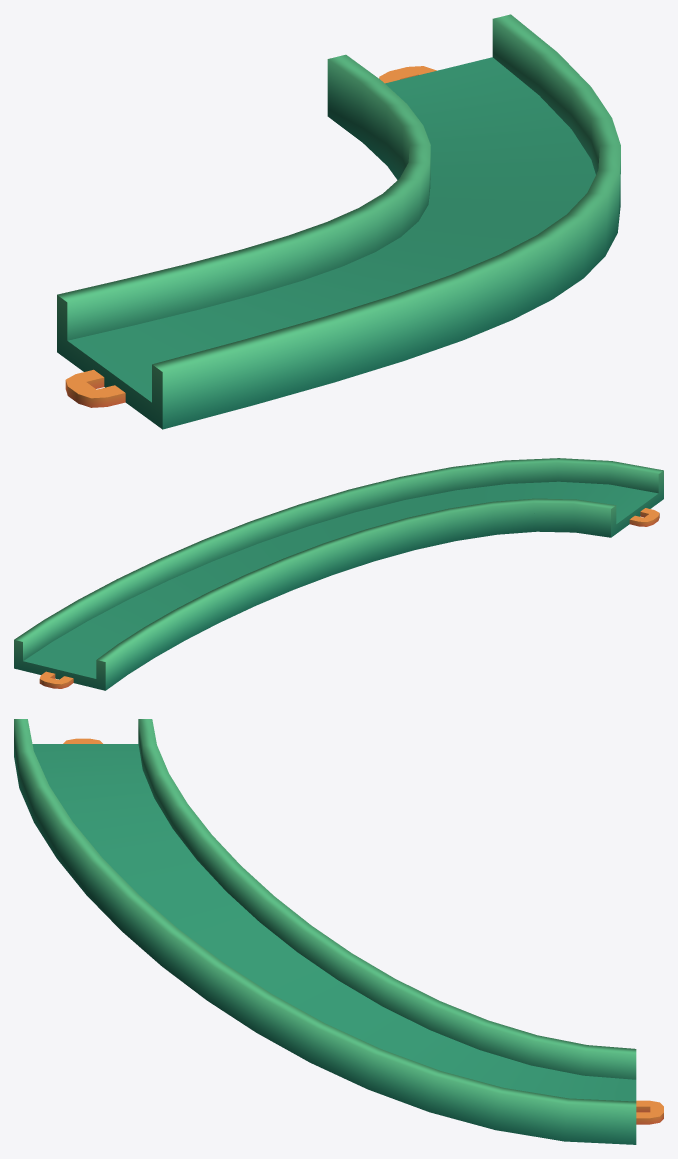
File: track-narrow-corner-large-ramp.fbx
3 views of the same model, one above another, from view 1: azimuth 30°, elevation 25°; view 2: azimuth 150°, elevation 25°; view 3: azimuth 270°, elevation 25° (orthographic). The views are drawn at different scales.
Visible parts, largest first — view 1: track-narrow-corner-large-ramp; view 2: track-narrow-corner-large-ramp; view 3: track-narrow-corner-large-ramp.
Part boxes in pixels (x1=…): track-narrow-corner-large-ramp: x1=57, y1=14, x2=620, y2=429; track-narrow-corner-large-ramp: x1=14, y1=458, x2=663, y2=690; track-narrow-corner-large-ramp: x1=14, y1=719, x2=663, y2=1144.
Bounding box in the file's own units: 470 × 130 × 470.
